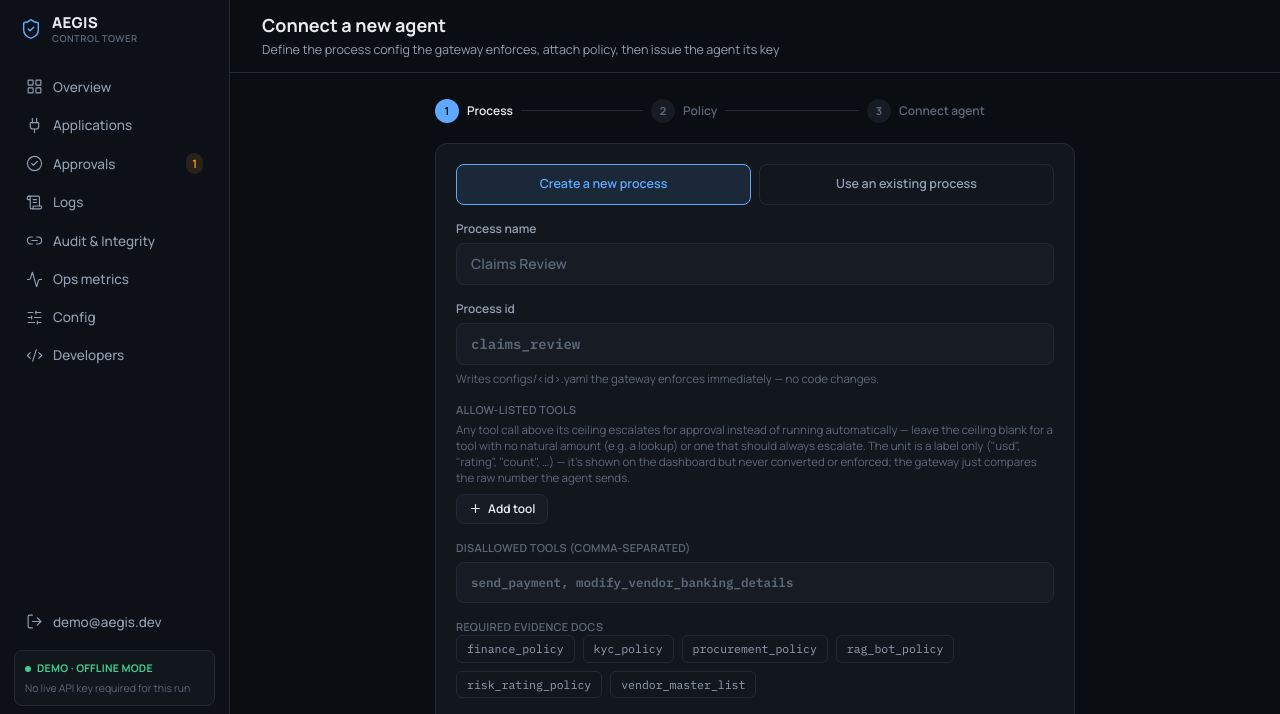
Test case: ProcessWizardPage › supports picking an existing process instead of creating one
Click the button "Use an existing process" at (906, 184), box [759, 164, 1054, 205]
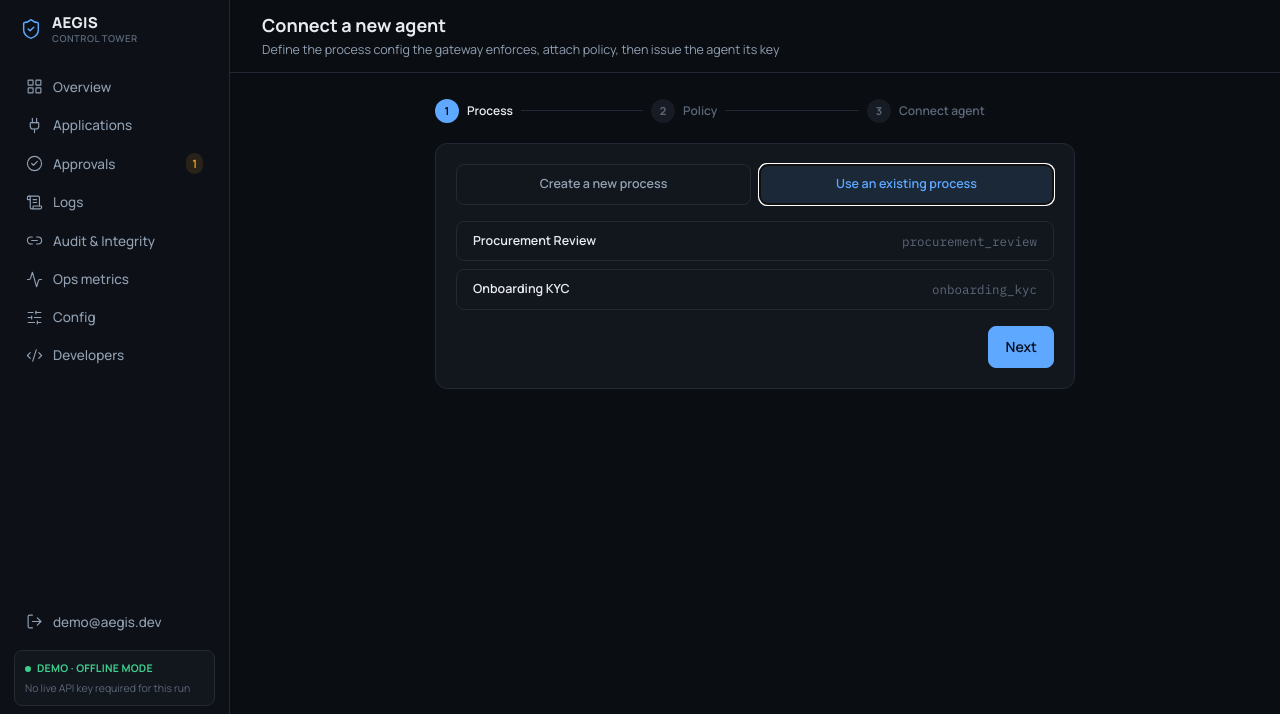
Now the text "Procurement Review" is shown
Click the text "Procurement Review" at (535, 241), box [473, 232, 596, 250]
(page scrolled)
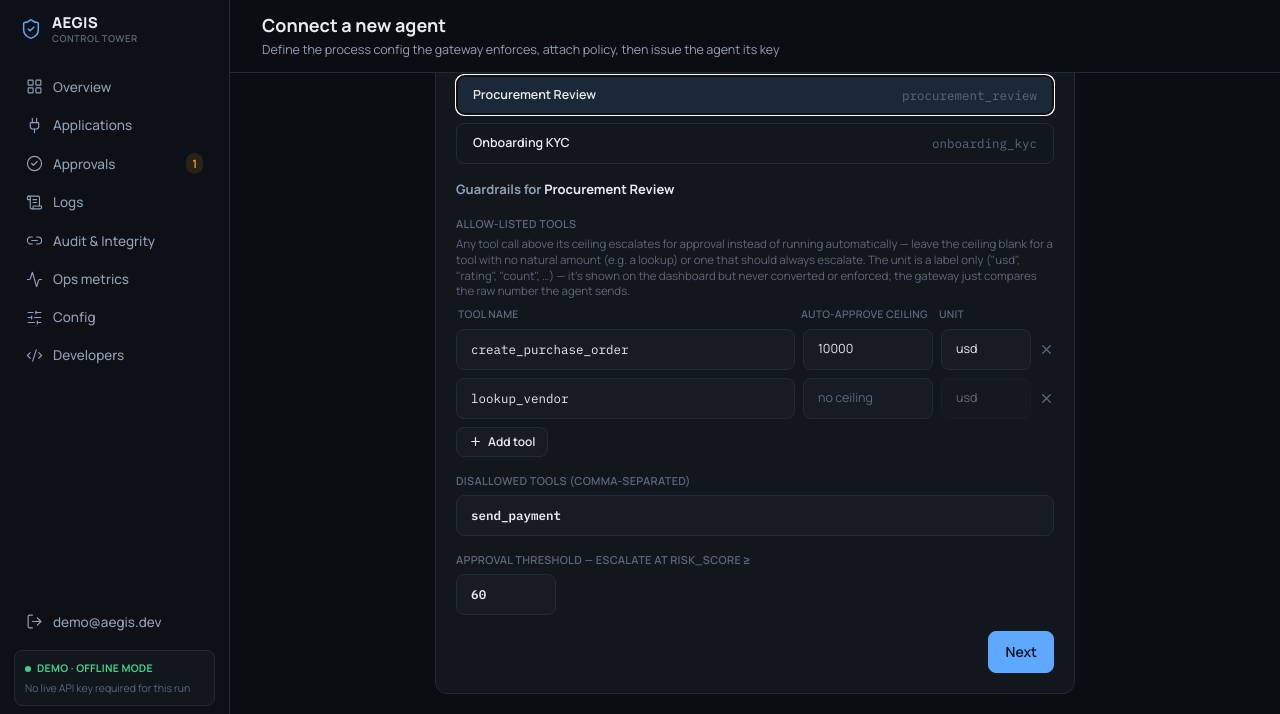
Now the text "Guardrails for Procurement Review" is shown, box [456, 180, 674, 198]
Now the 1st field showing "create_purchase_order" is shown, box [456, 329, 795, 370]
Click the button "Next" at (1021, 652), box [988, 631, 1054, 673]
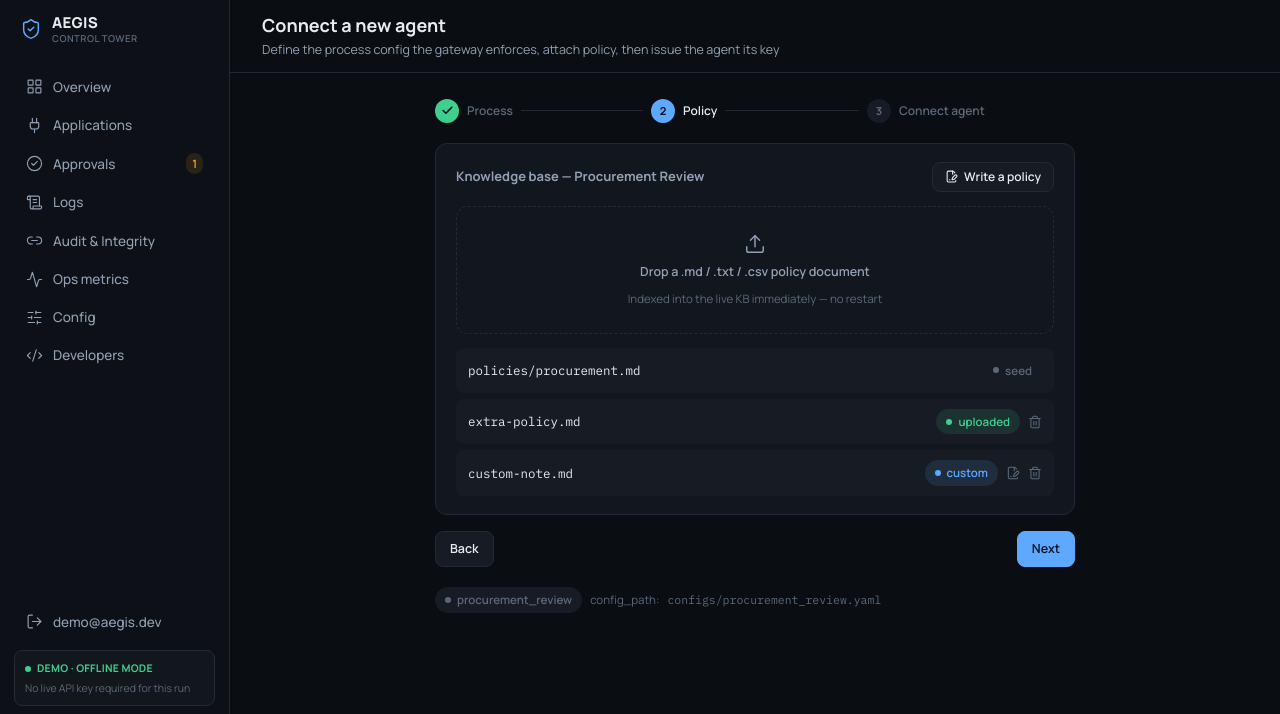
Now the text "Knowledge base — Procurement Review" is shown, box [456, 167, 704, 186]
